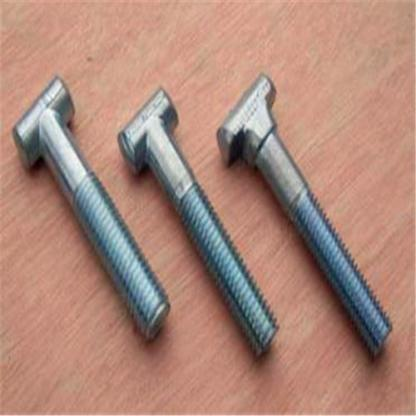FOD: (214, 70, 396, 358), (116, 87, 283, 361), (10, 74, 173, 343)
